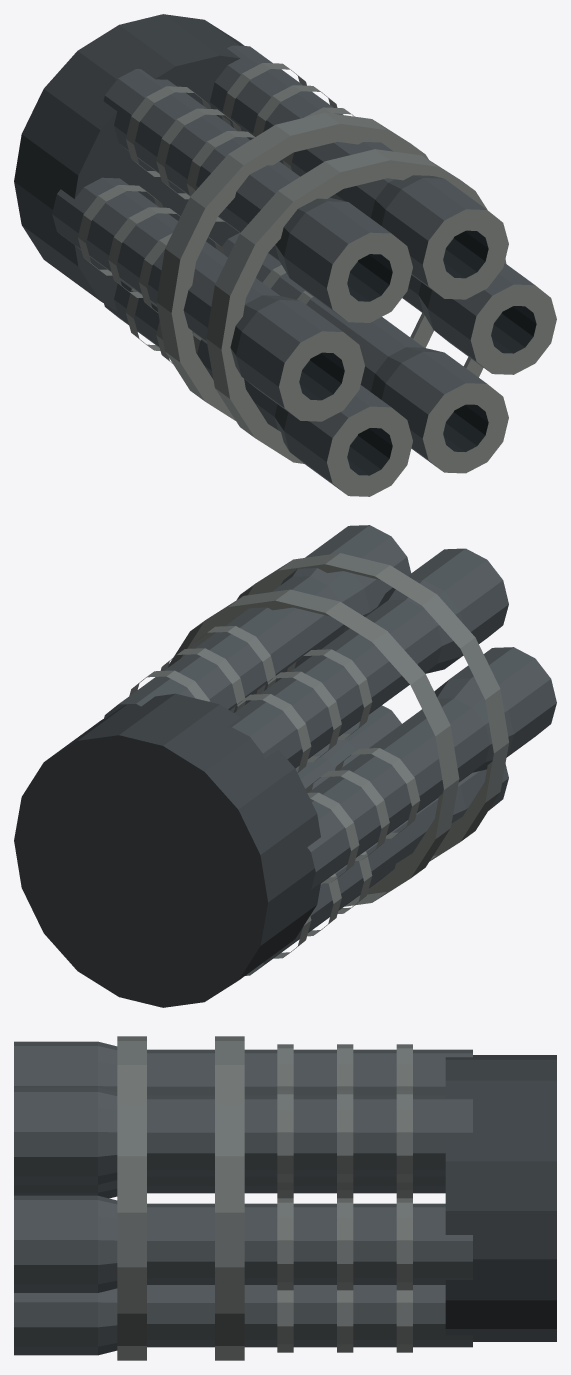
File: GatlingTurretRotor.obj
3 views of the same model, one above another, from view 1: azimuth 30°, elevation 25°; view 2: azimuth 150°, elevation 25°; view 3: azimuth 270°, elevation 25° (orthographic).
Parts seen in each view (by area): view 1: GatlingTurretRotor; view 2: GatlingTurretRotor; view 3: GatlingTurretRotor.
Part boxes in pixels (x1,y1,x2,y2): GatlingTurretRotor: (14, 14, 556, 496); GatlingTurretRotor: (14, 525, 556, 1007); GatlingTurretRotor: (14, 1036, 556, 1360).
Bounding box in the file's own units: 1.2 × 1.18 × 2.
1 material, 1 textured.
